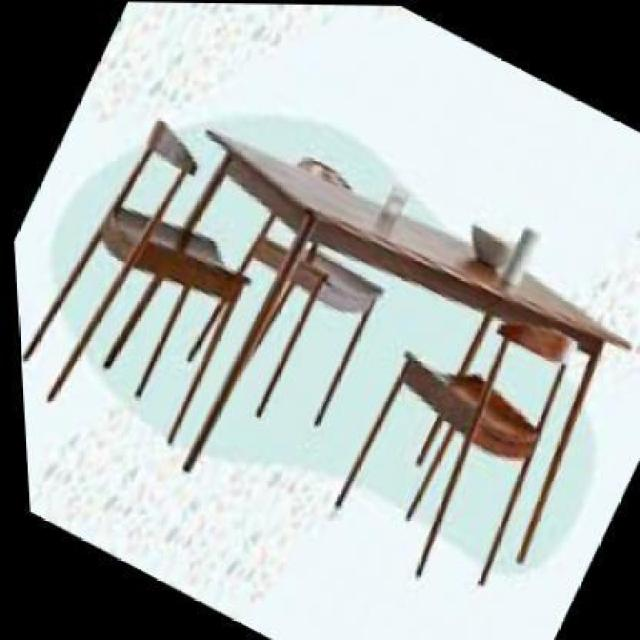tables: (181, 122, 634, 576)
